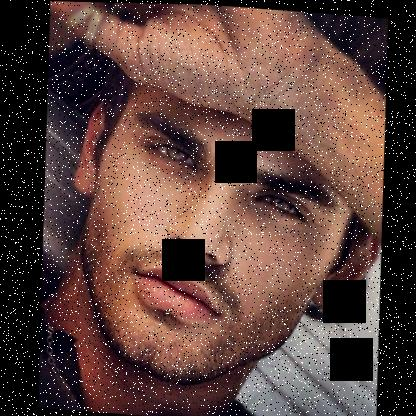Male: (57, 22, 392, 393)
